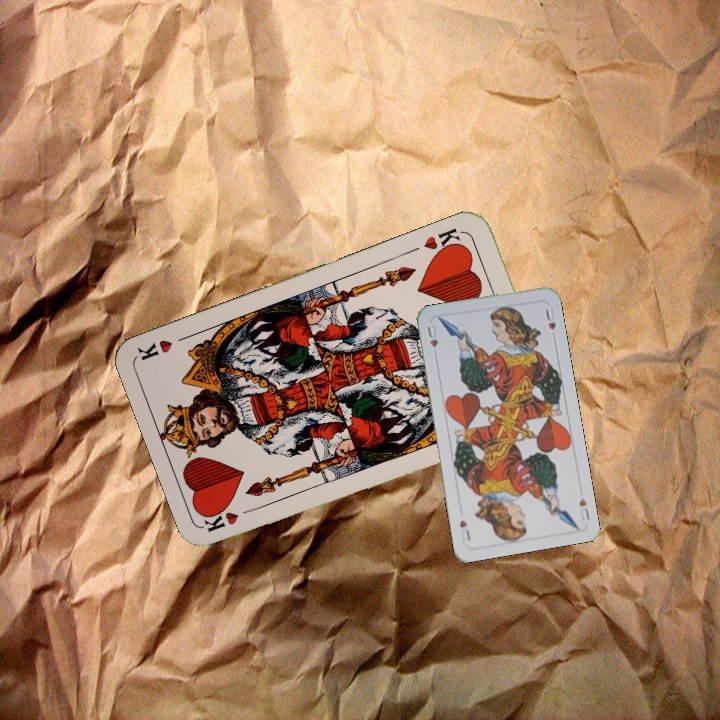HK: (201, 503, 260, 535), (419, 224, 466, 259)
HU: (423, 320, 440, 350), (575, 494, 592, 523)
